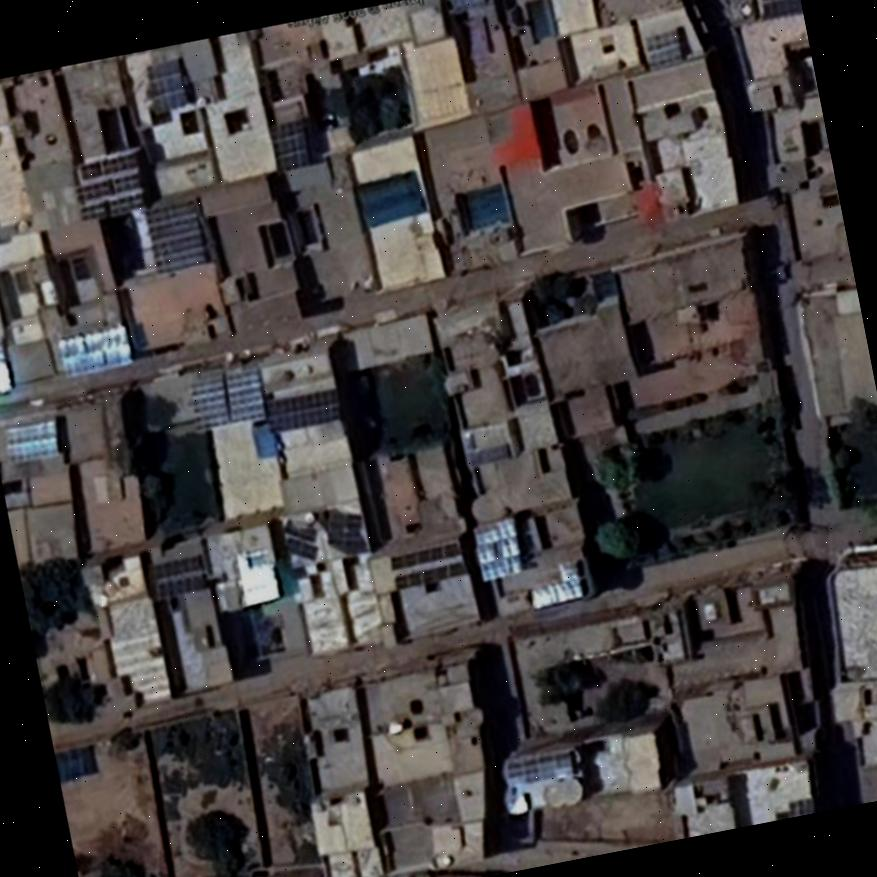Solarpanel: (191, 361, 265, 430), (142, 194, 204, 270), (54, 321, 130, 379), (262, 388, 340, 431), (471, 517, 520, 580), (147, 557, 206, 598), (505, 749, 571, 784), (3, 418, 56, 460), (149, 57, 187, 113), (390, 560, 463, 588), (268, 120, 308, 168), (78, 193, 145, 220), (75, 173, 141, 199), (643, 28, 683, 69), (389, 543, 454, 567), (78, 153, 136, 178), (327, 515, 359, 542), (280, 536, 315, 558), (761, 0, 802, 18)
